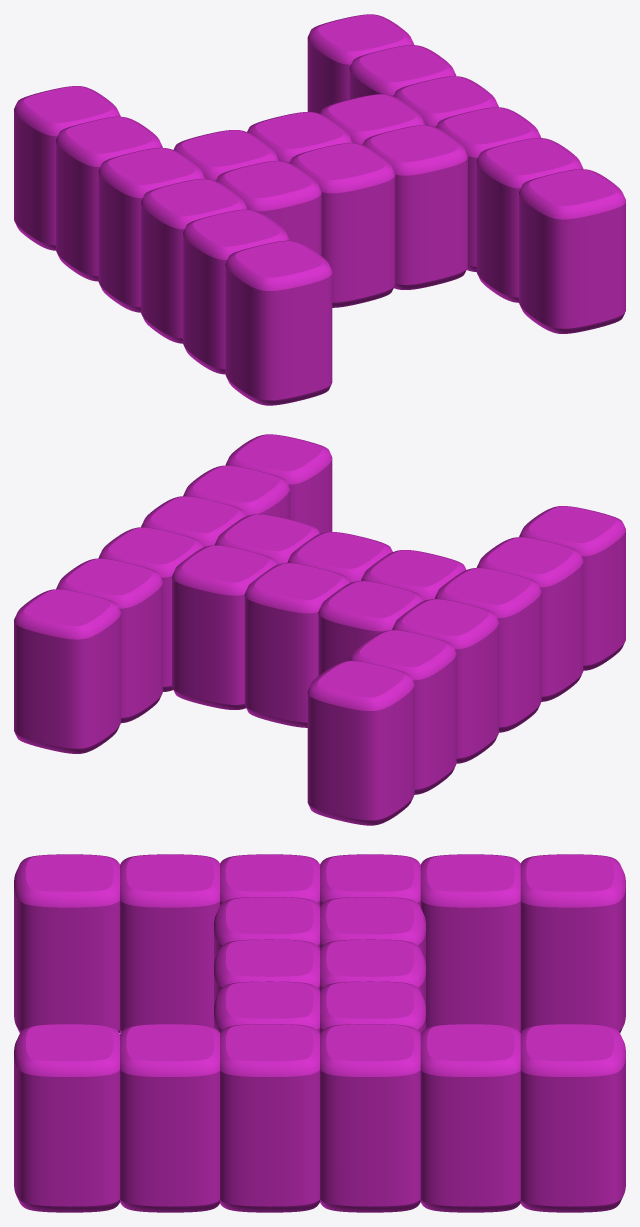
The model's file is Letter_H.fbx.
The picture shows the model from 3 angles, top to bottom: view 1: azimuth 30°, elevation 25°; view 2: azimuth 150°, elevation 25°; view 3: azimuth 270°, elevation 25°; orthographic projection. The views are drawn at different scales.
Visible parts, largest first — view 1: Letter_H; view 2: Letter_H; view 3: Letter_H.
Part boxes in pixels (x1,y1,x2,y2): Letter_H: (14, 14, 625, 405); Letter_H: (14, 434, 625, 825); Letter_H: (14, 854, 625, 1212).
Bounding box in the file's own units: 0.4311 × 0.14 × 0.5146.
